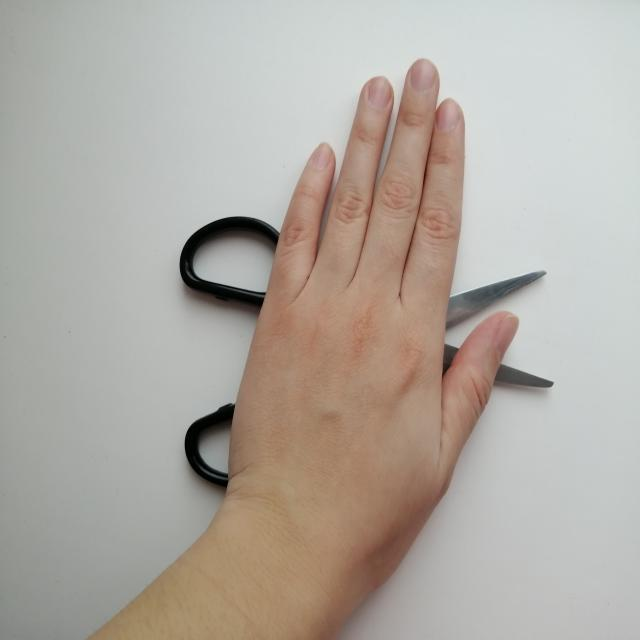scissors: (176, 210, 554, 498)
